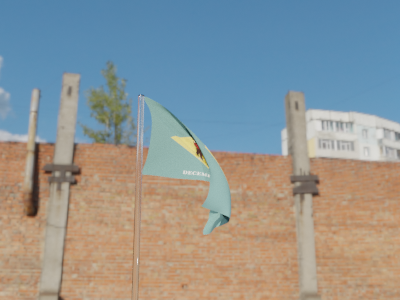Delaware flag: (141, 94, 234, 237)
